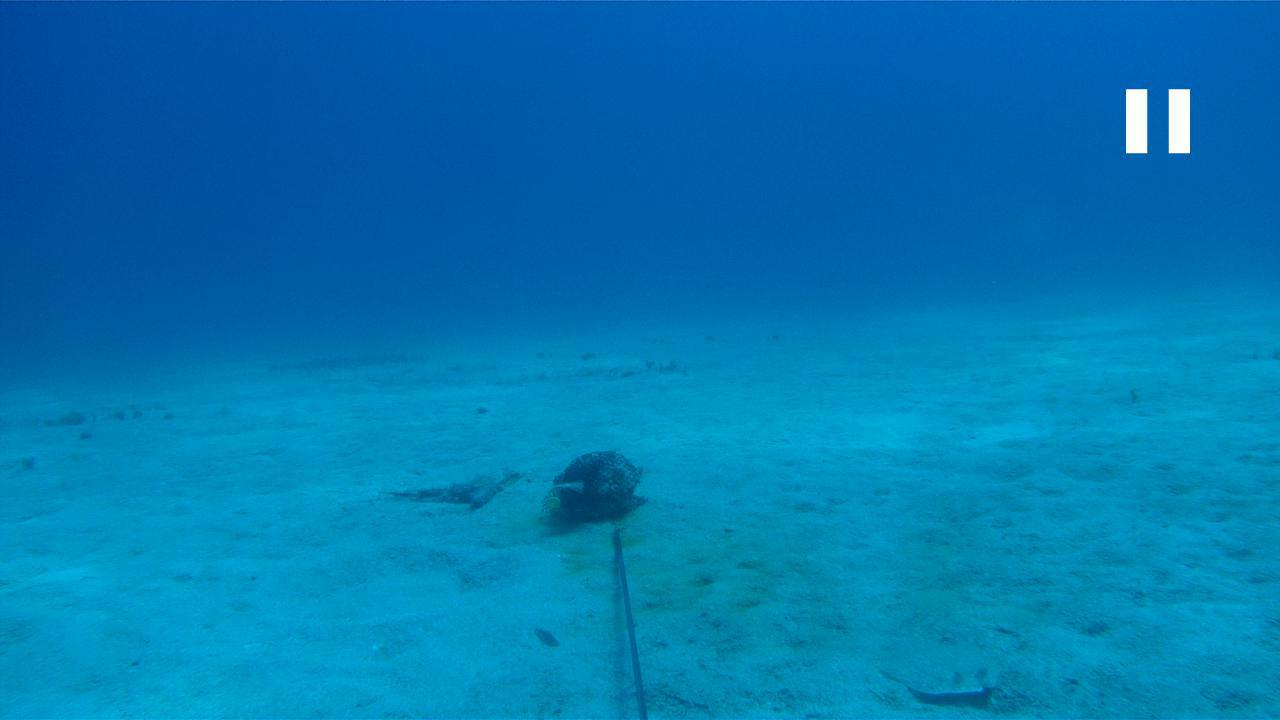bothus: (871, 622, 1005, 704)
